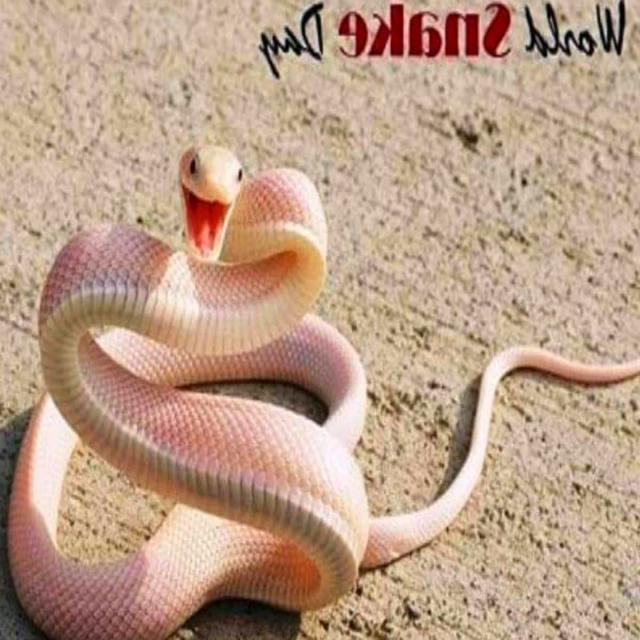snake: (9, 146, 640, 639)
